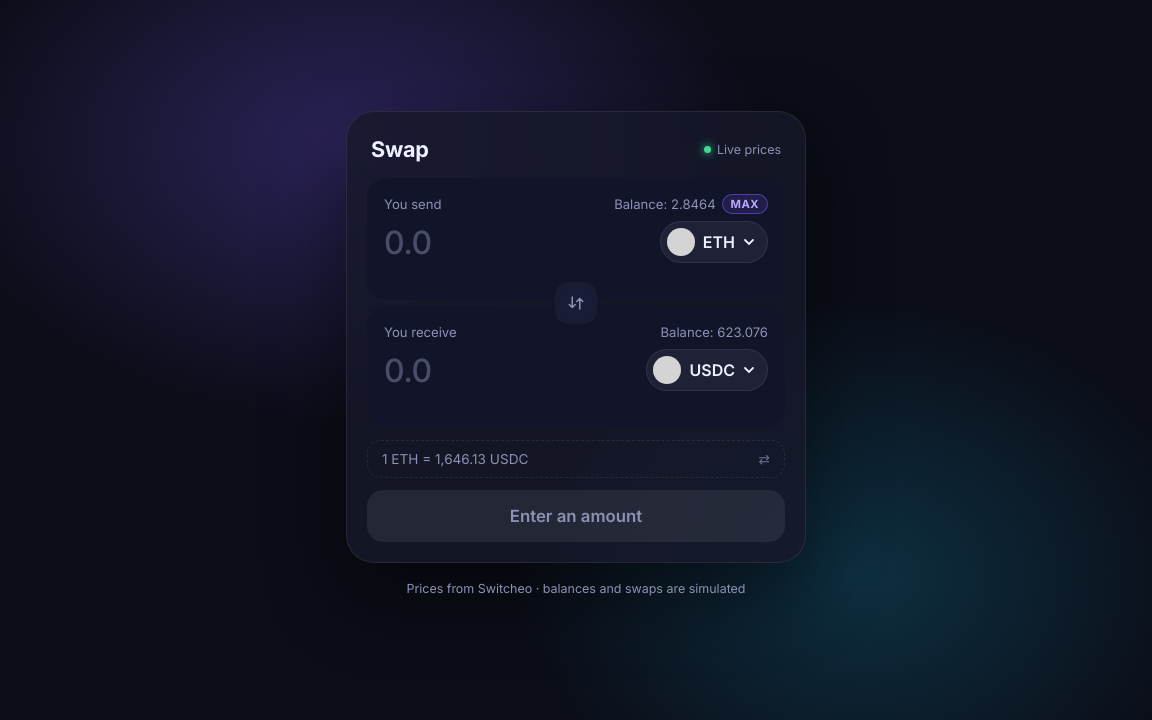
Test case: swap form › flips the pair and keeps the typed amount with its token
In the field labelled "You send": (516, 242) [384, 223, 648, 262], type "2"
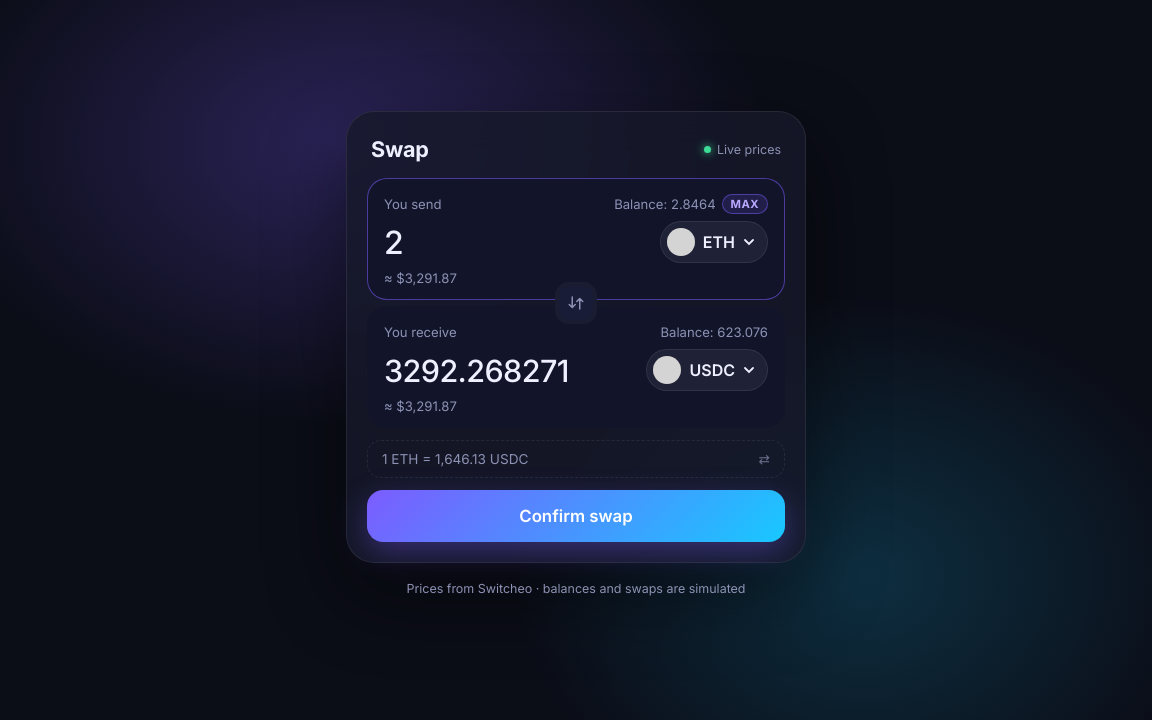
Click the button named "Swap send and receive tokens": (576, 303) [555, 282, 597, 324]
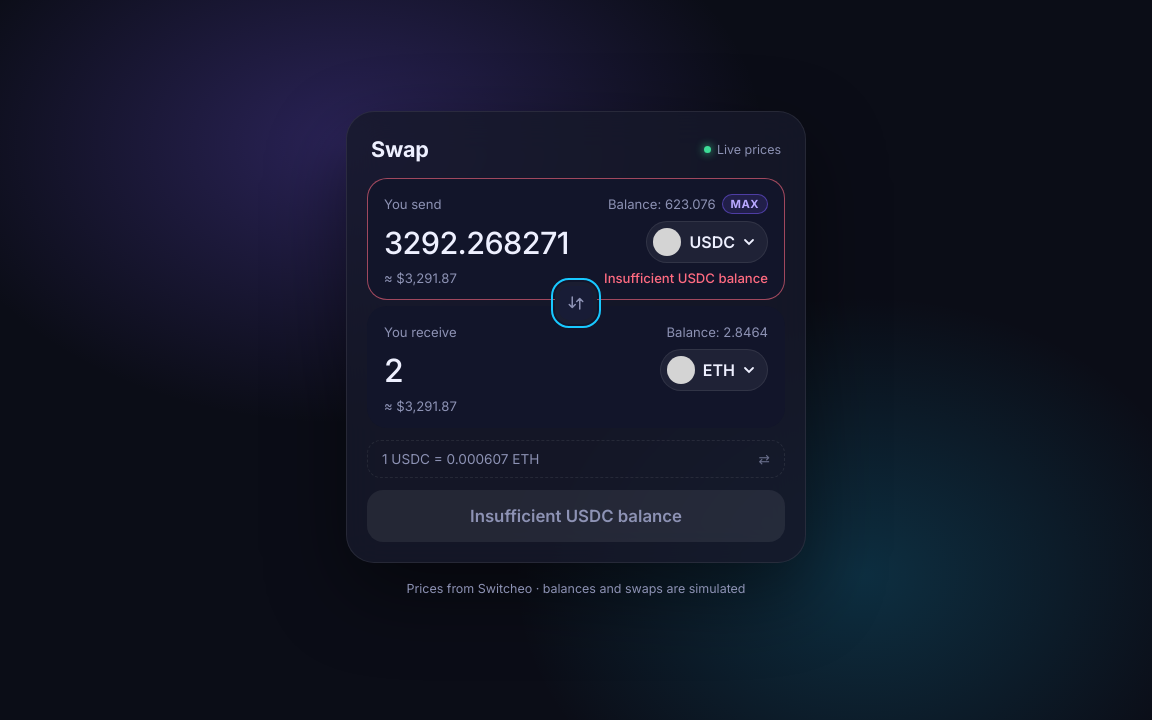
Expected: the button with aria-label "You send token:" reads "USDC", [646, 221, 768, 263]
Expected: the button with aria-label "You receive token:" reads "ETH", [660, 349, 768, 391]
Expected: the field labelled "You receive" holds "2", [384, 351, 648, 390]
